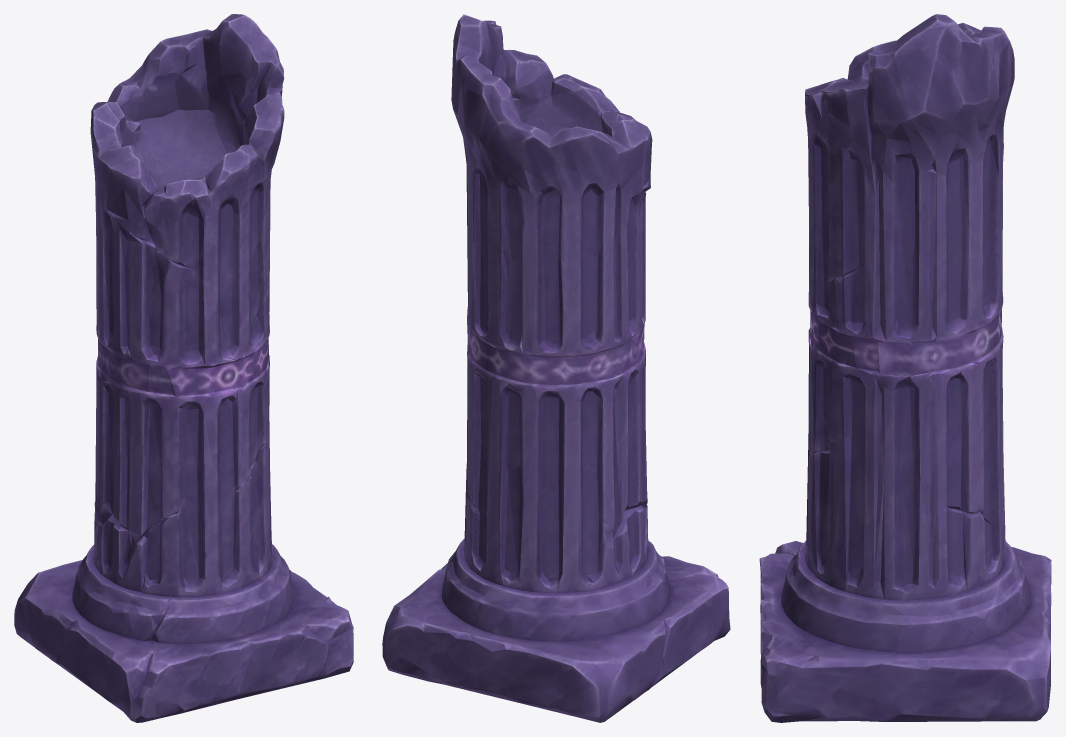
File: colonna.glb
3 renders of one model, left to right at view 1: azimuth 30°, elevation 25°; view 2: azimuth 150°, elevation 25°; view 3: azimuth 270°, elevation 25°, orthographic. The views are drawn at different scales.
Size of the model in its own units: 0.734 by 1.9 by 0.7354.
1 material, 1 textured.
